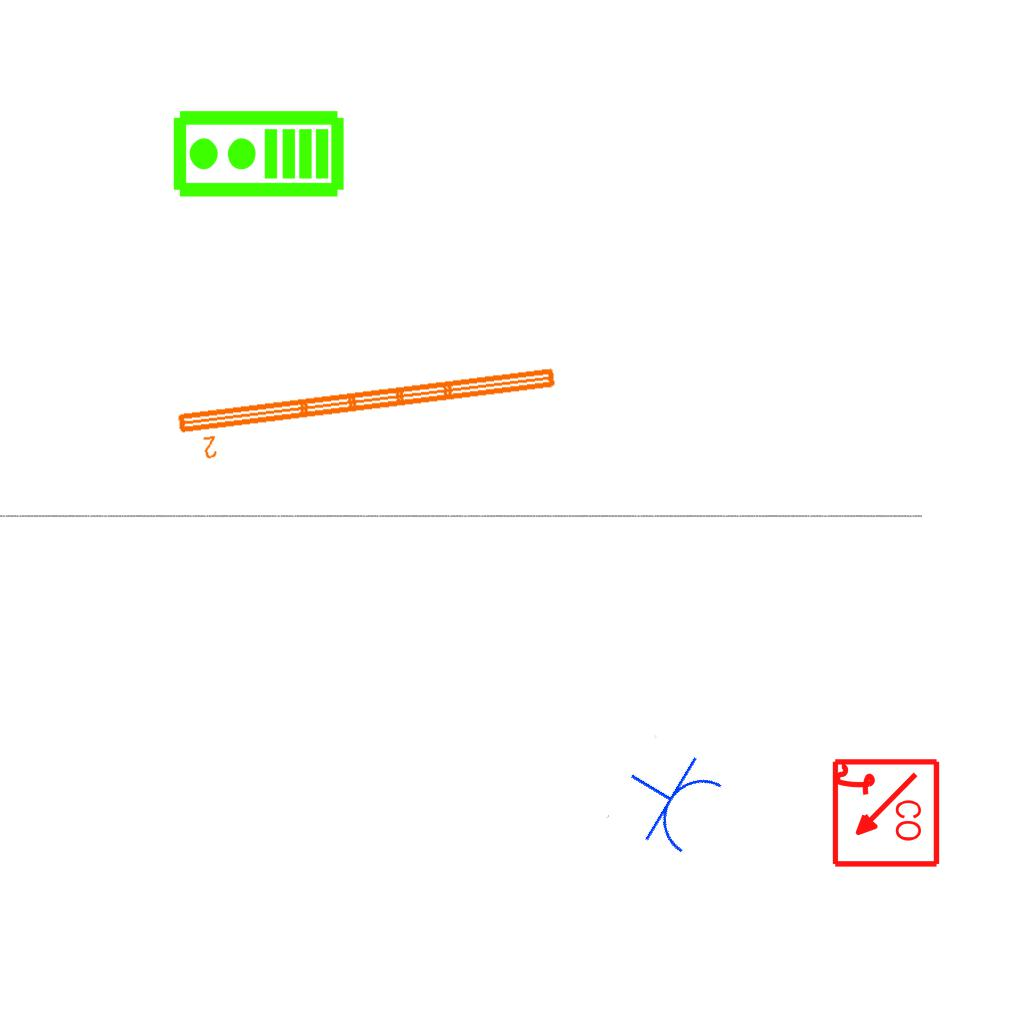Ambulanz_Pendelleuchte_LED: (173, 361, 564, 465)
Gegensprechanlage_mit_Video: (170, 108, 346, 203)
ROA_Rauchmelder_optisch_mit_Signalgeber_(Sockelsirene): (828, 757, 941, 870)
Schukosteckdose_einfach: (604, 733, 732, 864)
